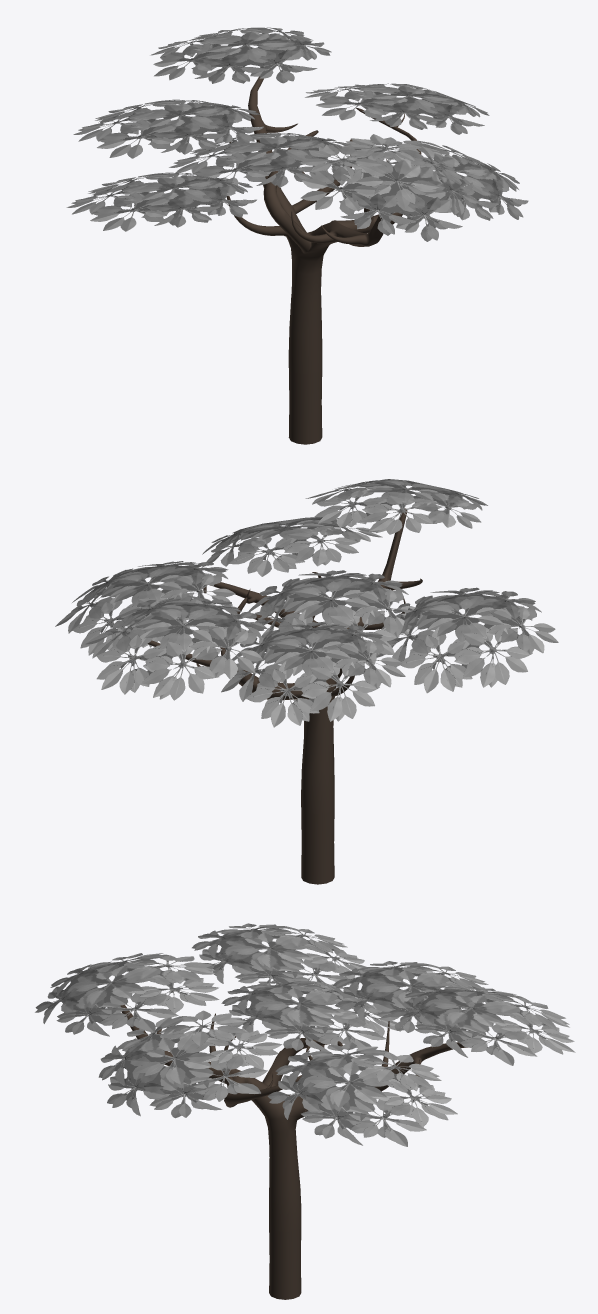
The model's file is tree 3.fbx.
The picture shows the model from 3 angles, top to bottom: view 1: azimuth 30°, elevation 25°; view 2: azimuth 150°, elevation 25°; view 3: azimuth 270°, elevation 25°; orthographic projection. The views are drawn at different scales.
Parts seen in each view (by area): view 1: pCylinder1, pPlane29, pPlane31, pPlane33, pPlane27, pPlane32, pPlane28, pPlane30; view 2: pPlane27, pPlane31, pPlane33, pCylinder1, pPlane32, pPlane28, pPlane29, pPlane30; view 3: pPlane30, pPlane28, pCylinder1, pPlane29, pPlane27, pPlane33, pPlane32, pPlane31.
Boxes of the visible parts, x1,y1,x2,y2 form: pCylinder1: (226,76,421,444); pPlane29: (299,134,479,241); pPlane31: (73,99,263,158); pPlane33: (66,172,256,231); pPlane27: (150,27,331,83); pPlane32: (169,132,350,187); pPlane28: (305,83,489,134); pPlane30: (340,139,528,220); pPlane27: (85,595,267,700); pPlane31: (221,621,405,727); pPlane33: (376,587,558,693); pCylinder1: (147,508,422,884); pPlane32: (248,570,418,675); pPlane28: (55,561,235,655); pPlane29: (305,479,487,534); pPlane30: (202,517,382,576); pPlane30: (98,1010,282,1118); pPlane28: (267,1042,457,1146); pCylinder1: (120,1005,467,1299); pPlane29: (35,953,219,1036); pPlane27: (389,986,575,1065); pPlane33: (192,923,366,995); pPlane32: (221,980,400,1053); pPlane31: (333,961,503,1036).
Size of the model in its own units: 30.87 by 18.75 by 30.53.
